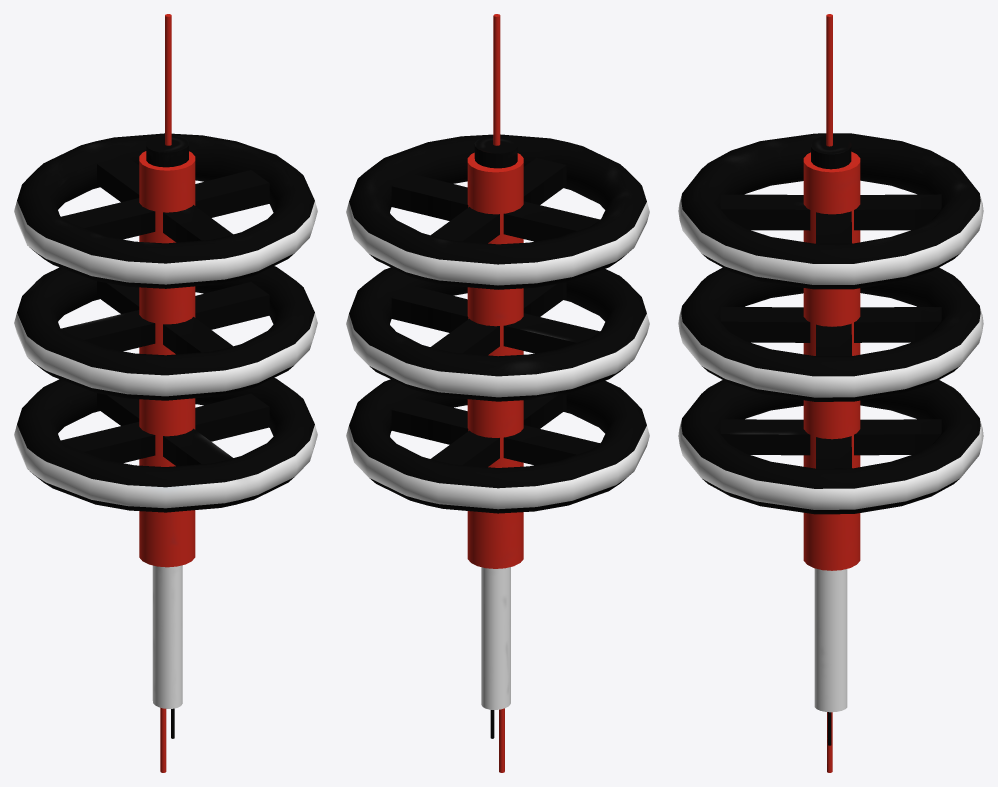
File: ssp1.FBX
3 views of the same model, side by side, from view 1: azimuth 30°, elevation 25°; view 2: azimuth 150°, elevation 25°; view 3: azimuth 270°, elevation 25° (orthographic).
Parts seen in each view (by area): view 1: SPESS Station; view 2: SPESS Station; view 3: SPESS Station.
Part boxes in pixels (x1=…): SPESS Station: x1=14, y1=14, x2=317, y2=772; SPESS Station: x1=346, y1=14, x2=649, y2=772; SPESS Station: x1=678, y1=14, x2=983, y2=772.
Bounding box in the file's own units: 39.39 × 108 × 39.39.
